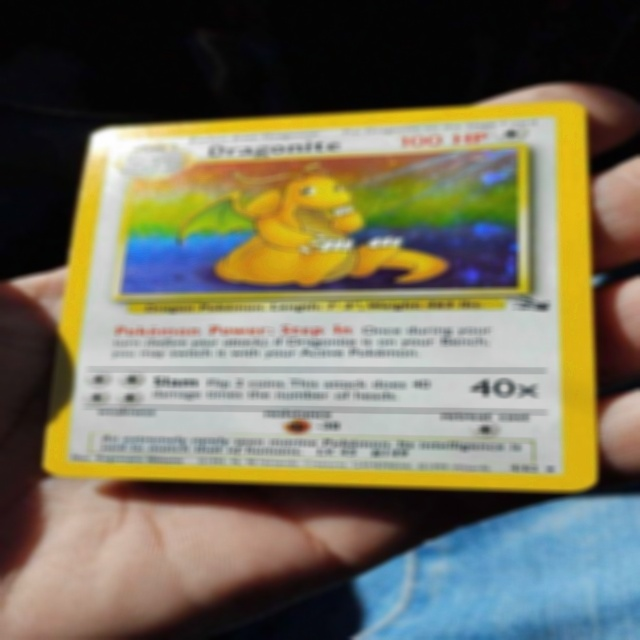card: (35, 99, 602, 495)
